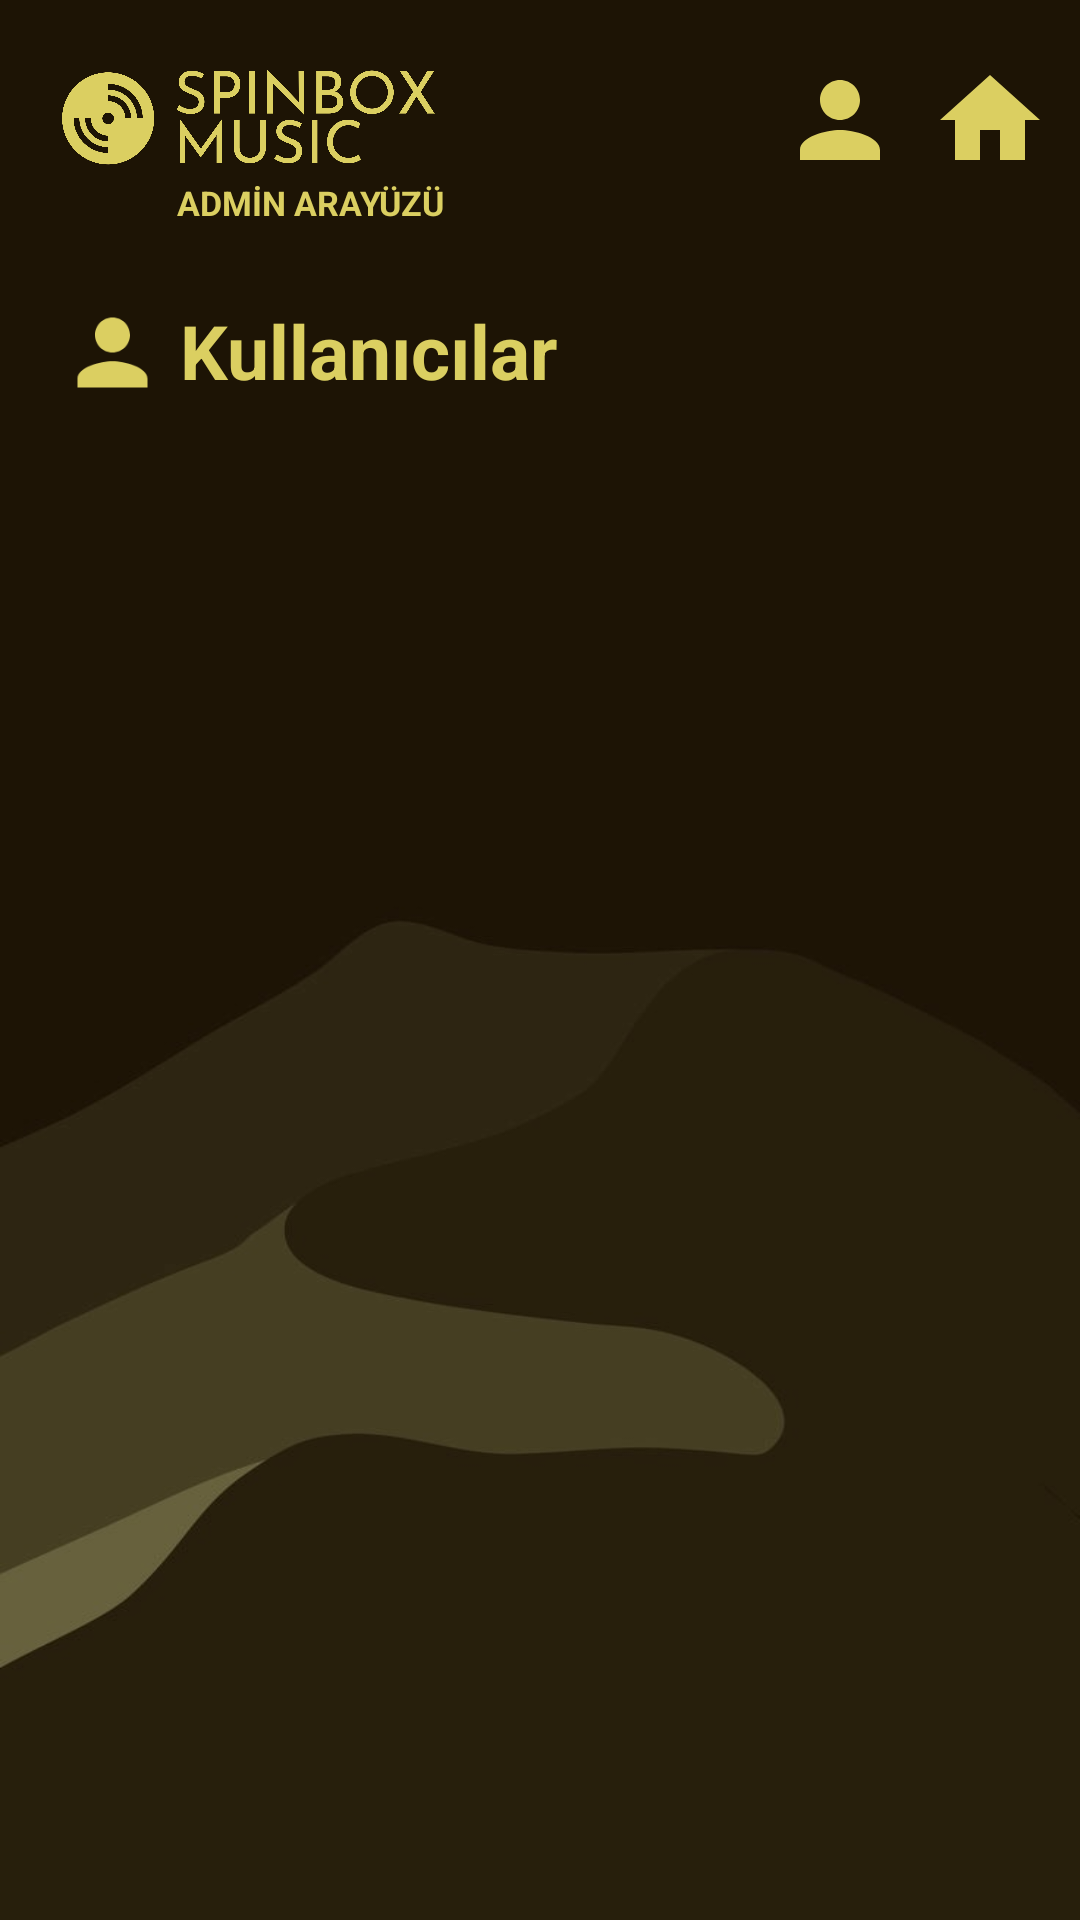

Screen size 1080×1920. Icon name, then its center in pixels as (x,y):
home: (990,117)
person: (840,120), (112,352)
